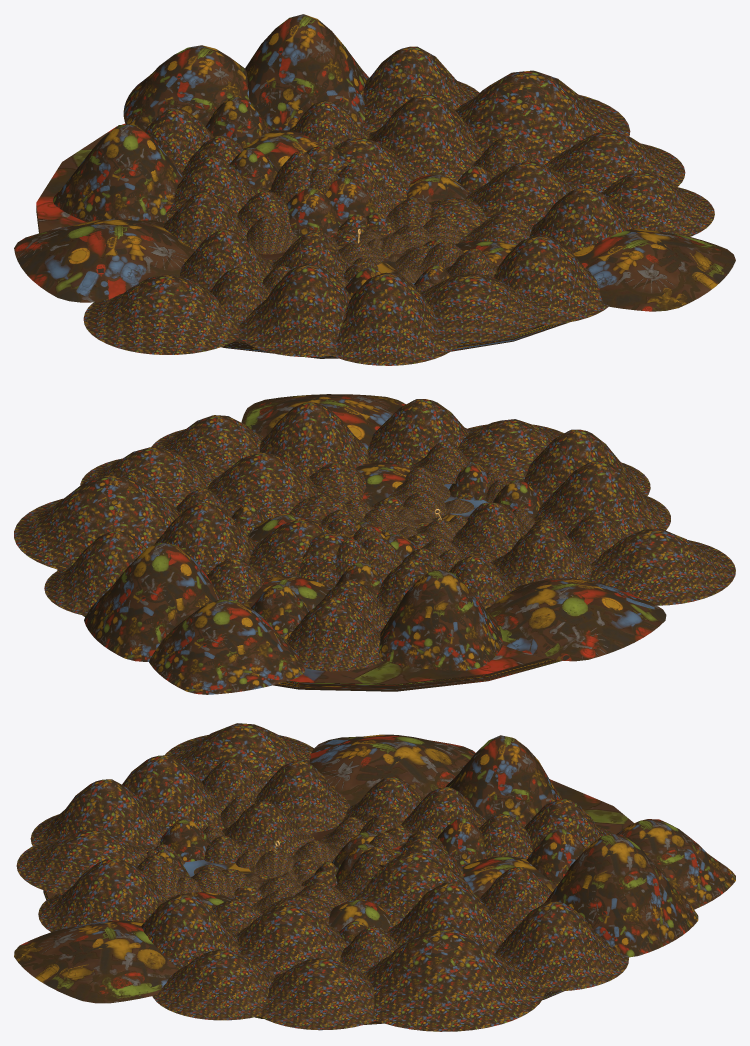
Rendered from trash-mountains.glb.
3 views of the same model, one above another, from view 1: azimuth 30°, elevation 25°; view 2: azimuth 150°, elevation 25°; view 3: azimuth 270°, elevation 25° (orthographic). The views are drawn at different scales.
Parts seen in each view (by area): view 1: NW_LowestGround_Area_v2_Combined(Clone)/L3_Far/L3_Far_LOD0, NW_LowestGround_Area_v2_Combined(Clone)/L1_Far/L1_Far_LOD0, NW_LowestGround_Area_v2_Combined(Clone)/L1_Far/Trashpile_02  (×5), NW_LowestGround_Area_v2_Combined(Clone)/L3_Far/Trashpile_02  (×4), NW_LowestGround_Area_v2_Combined(Clone)/L1_Far/Trashpile_02# (×6), NW_LowestGround_Area_v2_Combined(Clone)/L3_Near/L3_Near_LOD0, NW_LowestGround_Area_v2_Combined(Clone)/L3_Far/Trashpile_03# (×2), NW_LowestGround_Area_v2_Combined(Clone)/L3_Far/Trashpile_04 , NW_LowestGround_Area_v2_Combined(Clone)/L3_Near/Trashpile_02 (×6), NW_LowestGround_Area_v2_Combined(Clone)/L1_Far/Trashpile_04 , NW_LowestGround_Area_v2_Combined(Clone)/L3_Far/Trashpile_02# (×5), NW_LowestGround_Area_v2_Combined(Clone)/L3_Far/Trashpile_03  (+9 smaller); view 2: NW_LowestGround_Area_v2_Combined(Clone)/L3_Far/L3_Far_LOD0, NW_LowestGround_Area_v2_Combined(Clone)/L1_Far/L1_Far_LOD0, NW_LowestGround_Area_v2_Combined(Clone)/L1_Far/Trashpile_02  (×5), NW_LowestGround_Area_v2_Combined(Clone)/L1_Far/Trashpile_02# (×6), NW_LowestGround_Area_v2_Combined(Clone)/L3_Far/Trashpile_03# (×2), NW_LowestGround_Area_v2_Combined(Clone)/L3_Far/Trashpile_02  (×4), NW_LowestGround_Area_v2_Combined(Clone)/L3_Far/Trashpile_04 , NW_LowestGround_Area_v2_Combined(Clone)/LowGround, NW_LowestGround_Area_v2_Combined(Clone)/L3_Far/Trashpile_03 , NW_LowestGround_Area_v2_Combined(Clone)/L3_Near/L3_Near_LOD0, NW_LowestGround_Area_v2_Combined(Clone)/L3_Far/Trashpile_02# (×3), NW_LowestGround_Area_v2_Combined(Clone)/L3_Near/Trashpile_02 (×3) (+10 smaller); view 3: NW_LowestGround_Area_v2_Combined(Clone)/L3_Far/L3_Far_LOD0, NW_LowestGround_Area_v2_Combined(Clone)/L1_Far/L1_Far_LOD0, NW_LowestGround_Area_v2_Combined(Clone)/L1_Far/Trashpile_02  (×5), NW_LowestGround_Area_v2_Combined(Clone)/L3_Far/Trashpile_02  (×4), NW_LowestGround_Area_v2_Combined(Clone)/L1_Far/Trashpile_02# (×6), NW_LowestGround_Area_v2_Combined(Clone)/L3_Far/Trashpile_03# (×2), NW_LowestGround_Area_v2_Combined(Clone)/L1_Far/Trashpile_04 , NW_LowestGround_Area_v2_Combined(Clone)/L3_Near/L3_Near_LOD0, NW_LowestGround_Area_v2_Combined(Clone)/L3_Near/Trashpile_02 (×4), NW_LowestGround_Area_v2_Combined(Clone)/L3_Far/Trashpile_02# (×5), NW_LowestGround_Area_v2_Combined(Clone)/L3_Far/Trashpile_04 , NW_LowestGround_Area_v2_Combined(Clone)/L1_Near/L1_Near_LOD0 (+10 smaller).
Part boxes in pixels (x1,y1,x2,y2): NW_LowestGround_Area_v2_Combined(Clone)/L3_Far/L3_Far_LOD0: (14, 14, 685, 302); NW_LowestGround_Area_v2_Combined(Clone)/L1_Far/L1_Far_LOD0: (86, 172, 725, 365); NW_LowestGround_Area_v2_Combined(Clone)/L1_Far/Trashpile_02  (×5): (83, 172, 714, 365); NW_LowestGround_Area_v2_Combined(Clone)/L3_Far/Trashpile_02  (×4): (365, 48, 676, 191); NW_LowestGround_Area_v2_Combined(Clone)/L1_Far/Trashpile_02# (×6): (180, 188, 635, 357); NW_LowestGround_Area_v2_Combined(Clone)/L3_Near/L3_Near_LOD0: (230, 137, 492, 253); NW_LowestGround_Area_v2_Combined(Clone)/L3_Far/Trashpile_03# (×2): (54, 15, 368, 221); NW_LowestGround_Area_v2_Combined(Clone)/L3_Far/Trashpile_04 : (15, 219, 194, 302); NW_LowestGround_Area_v2_Combined(Clone)/L3_Near/Trashpile_02 (×6): (238, 138, 432, 254); NW_LowestGround_Area_v2_Combined(Clone)/L1_Far/Trashpile_04 : (576, 228, 735, 311); NW_LowestGround_Area_v2_Combined(Clone)/L3_Far/Trashpile_02# (×5): (144, 100, 576, 217); NW_LowestGround_Area_v2_Combined(Clone)/L3_Far/Trashpile_03 : (124, 45, 250, 124); NW_LowestGround_Area_v2_Combined(Clone)/L3_Far/L3_Far_LOD0: (14, 447, 663, 694); NW_LowestGround_Area_v2_Combined(Clone)/L1_Far/L1_Far_LOD0: (151, 394, 735, 604); NW_LowestGround_Area_v2_Combined(Clone)/L1_Far/Trashpile_02  (×5): (152, 399, 735, 605); NW_LowestGround_Area_v2_Combined(Clone)/L1_Far/Trashpile_02# (×6): (262, 405, 670, 586); NW_LowestGround_Area_v2_Combined(Clone)/L3_Far/Trashpile_03# (×2): (84, 543, 499, 670); NW_LowestGround_Area_v2_Combined(Clone)/L3_Far/Trashpile_02  (×4): (22, 447, 256, 609); NW_LowestGround_Area_v2_Combined(Clone)/L3_Far/Trashpile_04 : (485, 578, 666, 658); NW_LowestGround_Area_v2_Combined(Clone)/LowGround: (57, 484, 561, 691); NW_LowestGround_Area_v2_Combined(Clone)/L3_Far/Trashpile_03 : (150, 599, 297, 694); NW_LowestGround_Area_v2_Combined(Clone)/L3_Near/L3_Near_LOD0: (232, 495, 463, 589); NW_LowestGround_Area_v2_Combined(Clone)/L3_Far/Trashpile_02# (×3): (207, 453, 425, 667); NW_LowestGround_Area_v2_Combined(Clone)/L3_Near/Trashpile_02 (×3): (248, 519, 370, 588); NW_LowestGround_Area_v2_Combined(Clone)/L3_Far/L3_Far_LOD0: (237, 734, 735, 1031); NW_LowestGround_Area_v2_Combined(Clone)/L1_Far/L1_Far_LOD0: (17, 723, 348, 1019); NW_LowestGround_Area_v2_Combined(Clone)/L1_Far/Trashpile_02  (×5): (16, 723, 313, 1020); NW_LowestGround_Area_v2_Combined(Clone)/L3_Far/Trashpile_02  (×4): (266, 883, 622, 1030); NW_LowestGround_Area_v2_Combined(Clone)/L1_Far/Trashpile_02# (×6): (122, 755, 350, 961); NW_LowestGround_Area_v2_Combined(Clone)/L3_Far/Trashpile_03# (×2): (452, 736, 693, 957); NW_LowestGround_Area_v2_Combined(Clone)/L1_Far/Trashpile_04 : (14, 920, 178, 1003); NW_LowestGround_Area_v2_Combined(Clone)/L3_Near/L3_Near_LOD0: (253, 813, 483, 944); NW_LowestGround_Area_v2_Combined(Clone)/L3_Near/Trashpile_02 (×4): (321, 817, 471, 927); NW_LowestGround_Area_v2_Combined(Clone)/L3_Far/Trashpile_02# (×5): (239, 786, 609, 972); NW_LowestGround_Area_v2_Combined(Clone)/L3_Far/Trashpile_04 : (310, 734, 466, 804); NW_LowestGround_Area_v2_Combined(Clone)/L1_Near/L1_Near_LOD0: (140, 835, 296, 909).
Size of what is drawn, in the model's own units: 1689 by 285 by 1717.
Materials: 2 (2 with a texture image).
